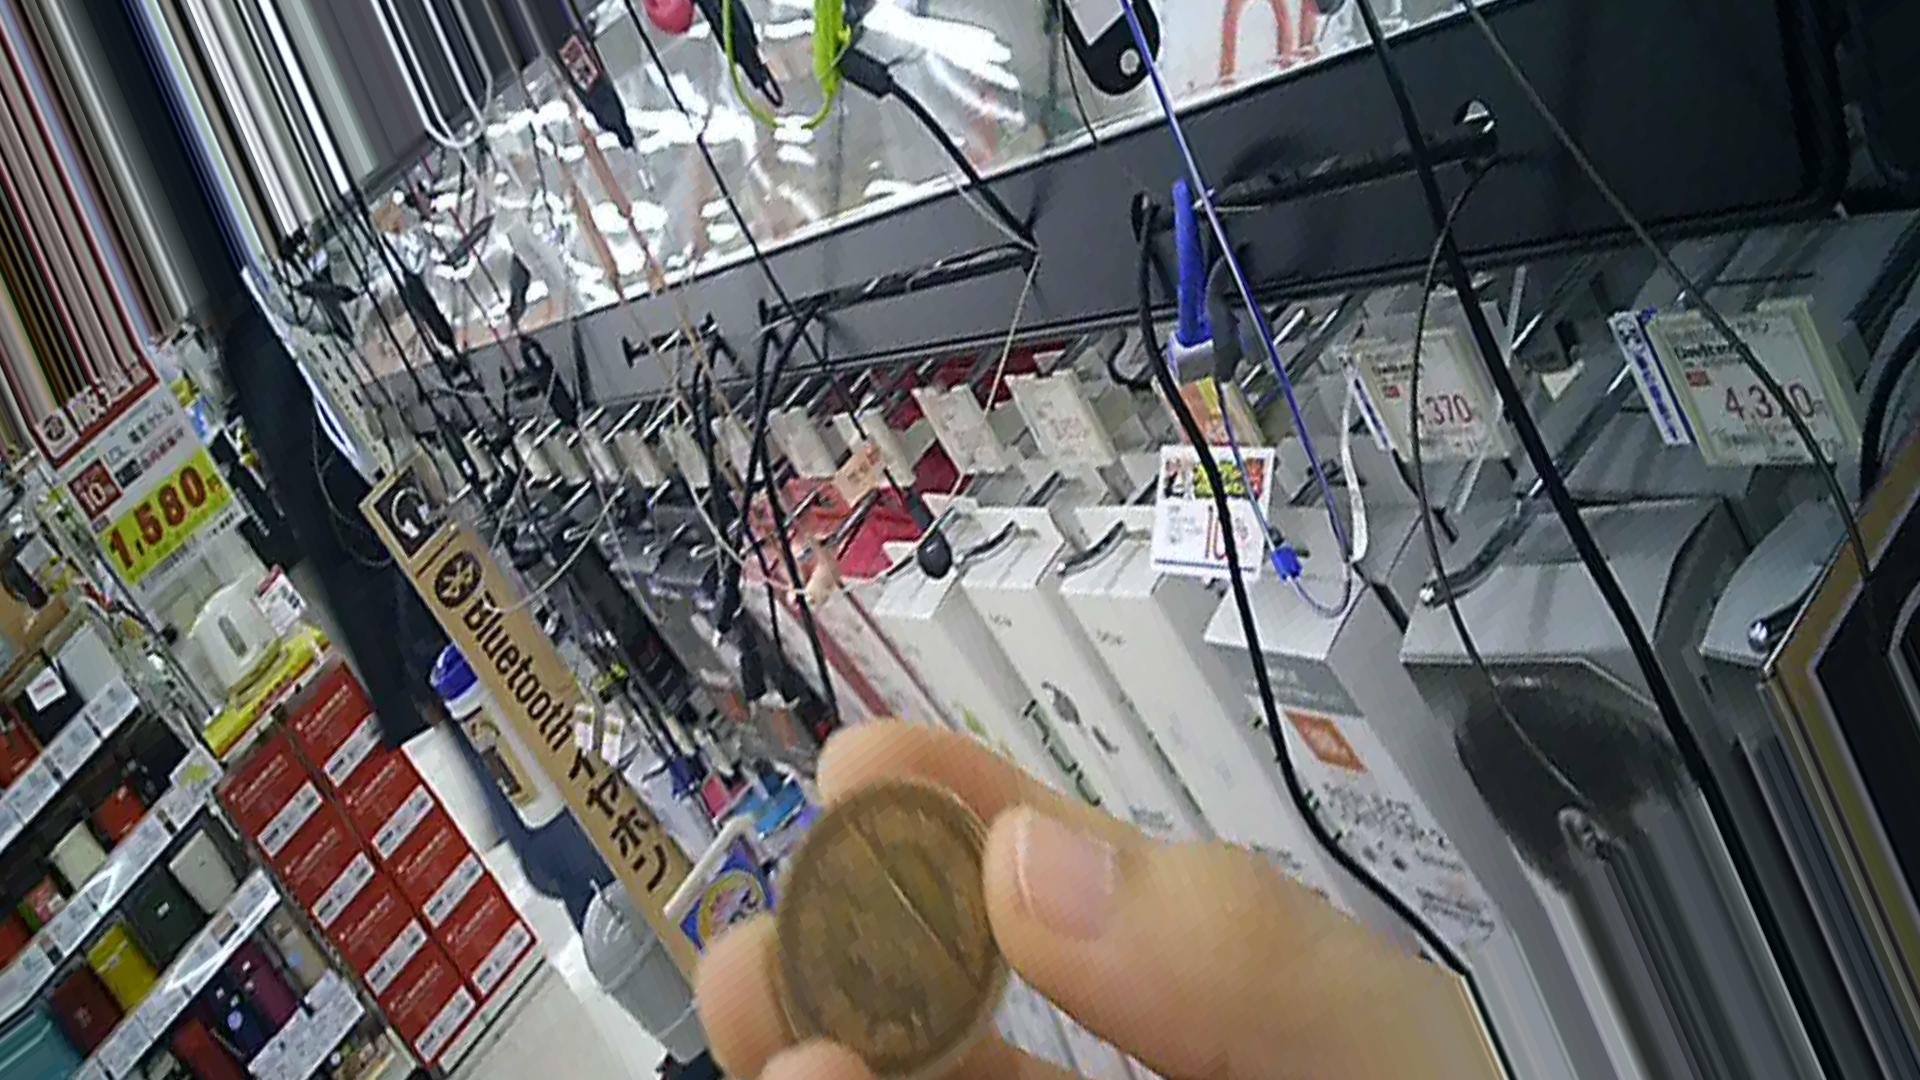10 Yen: (746, 778, 1050, 1056)
